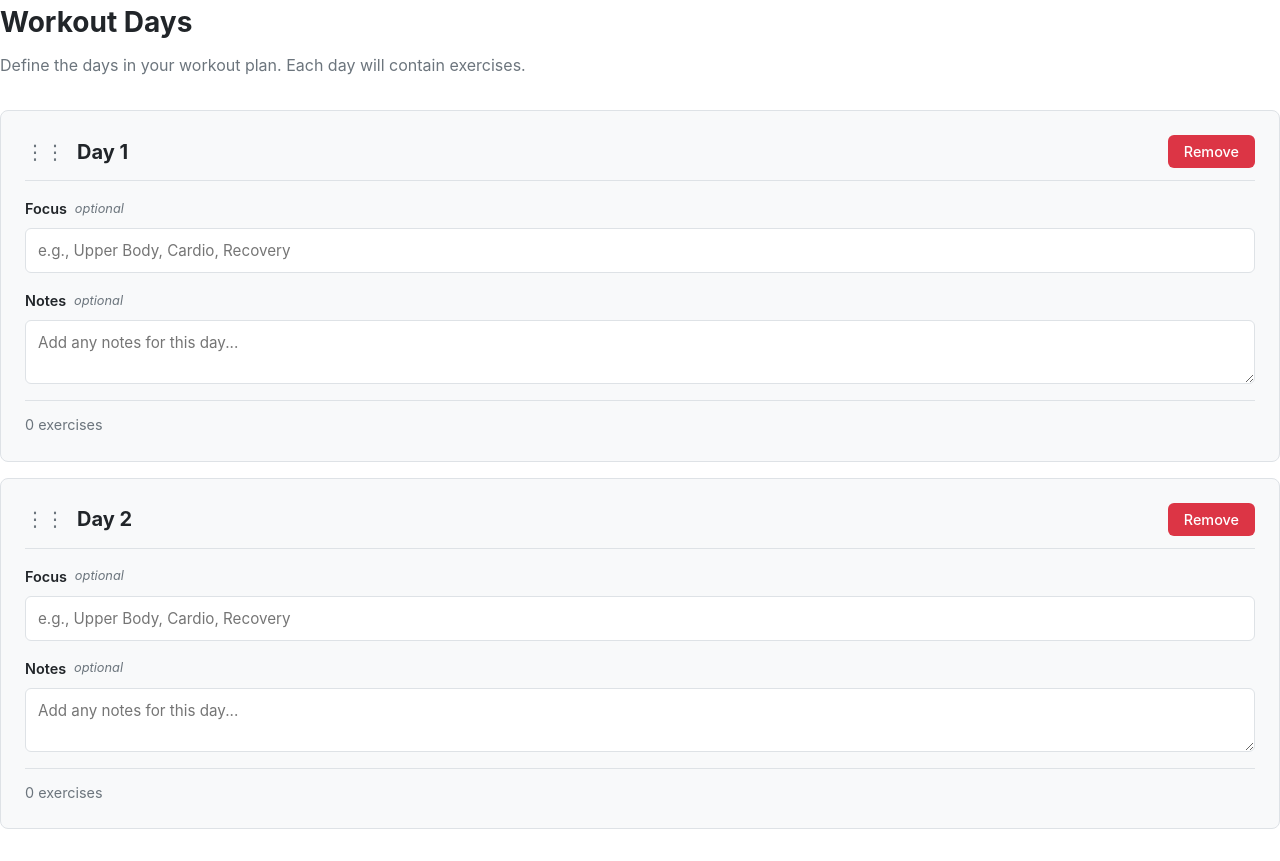
Scenario: DaysStep › should remove a day when Remove button is clicked
Click the 2nd button "Remove" at (1211, 519), box [1168, 502, 1255, 536]
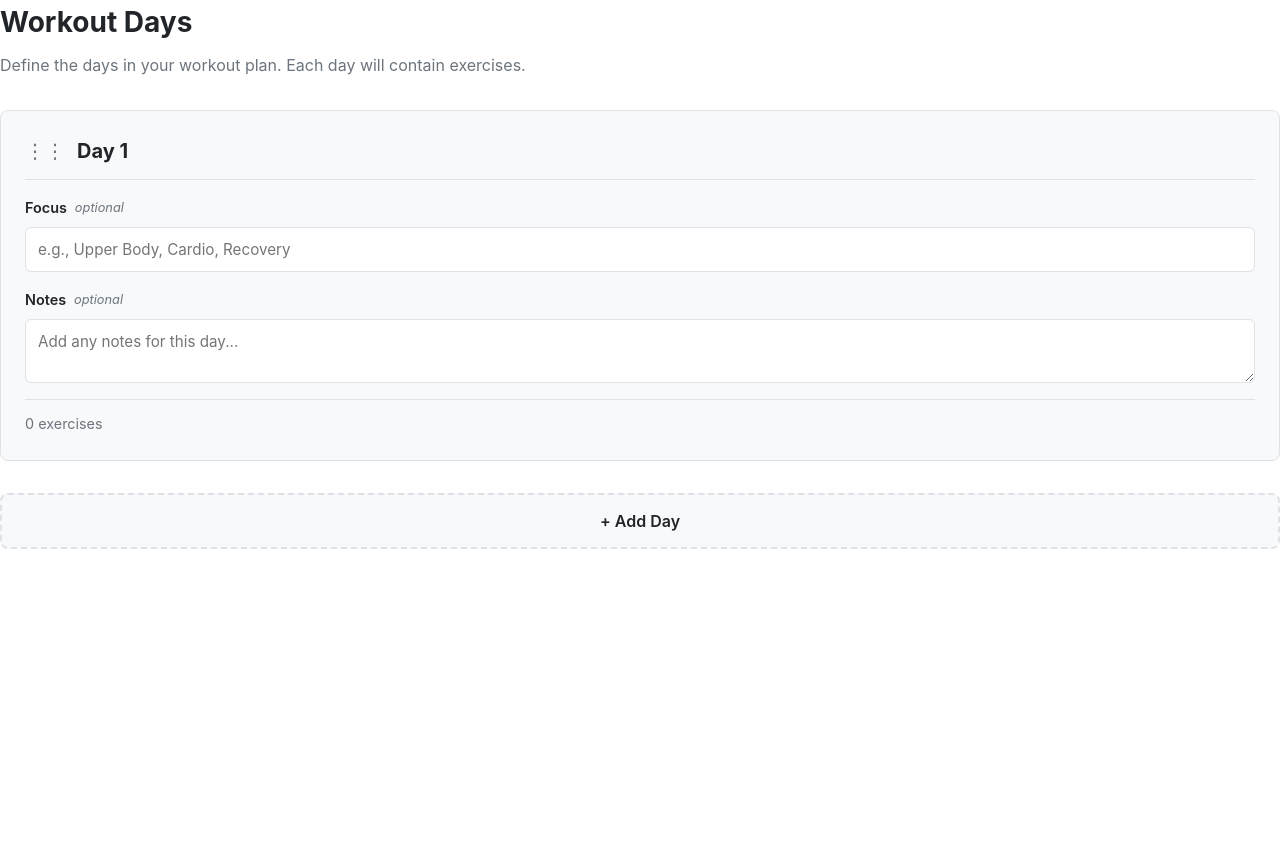
Result: the heading "Day 2" is gone
